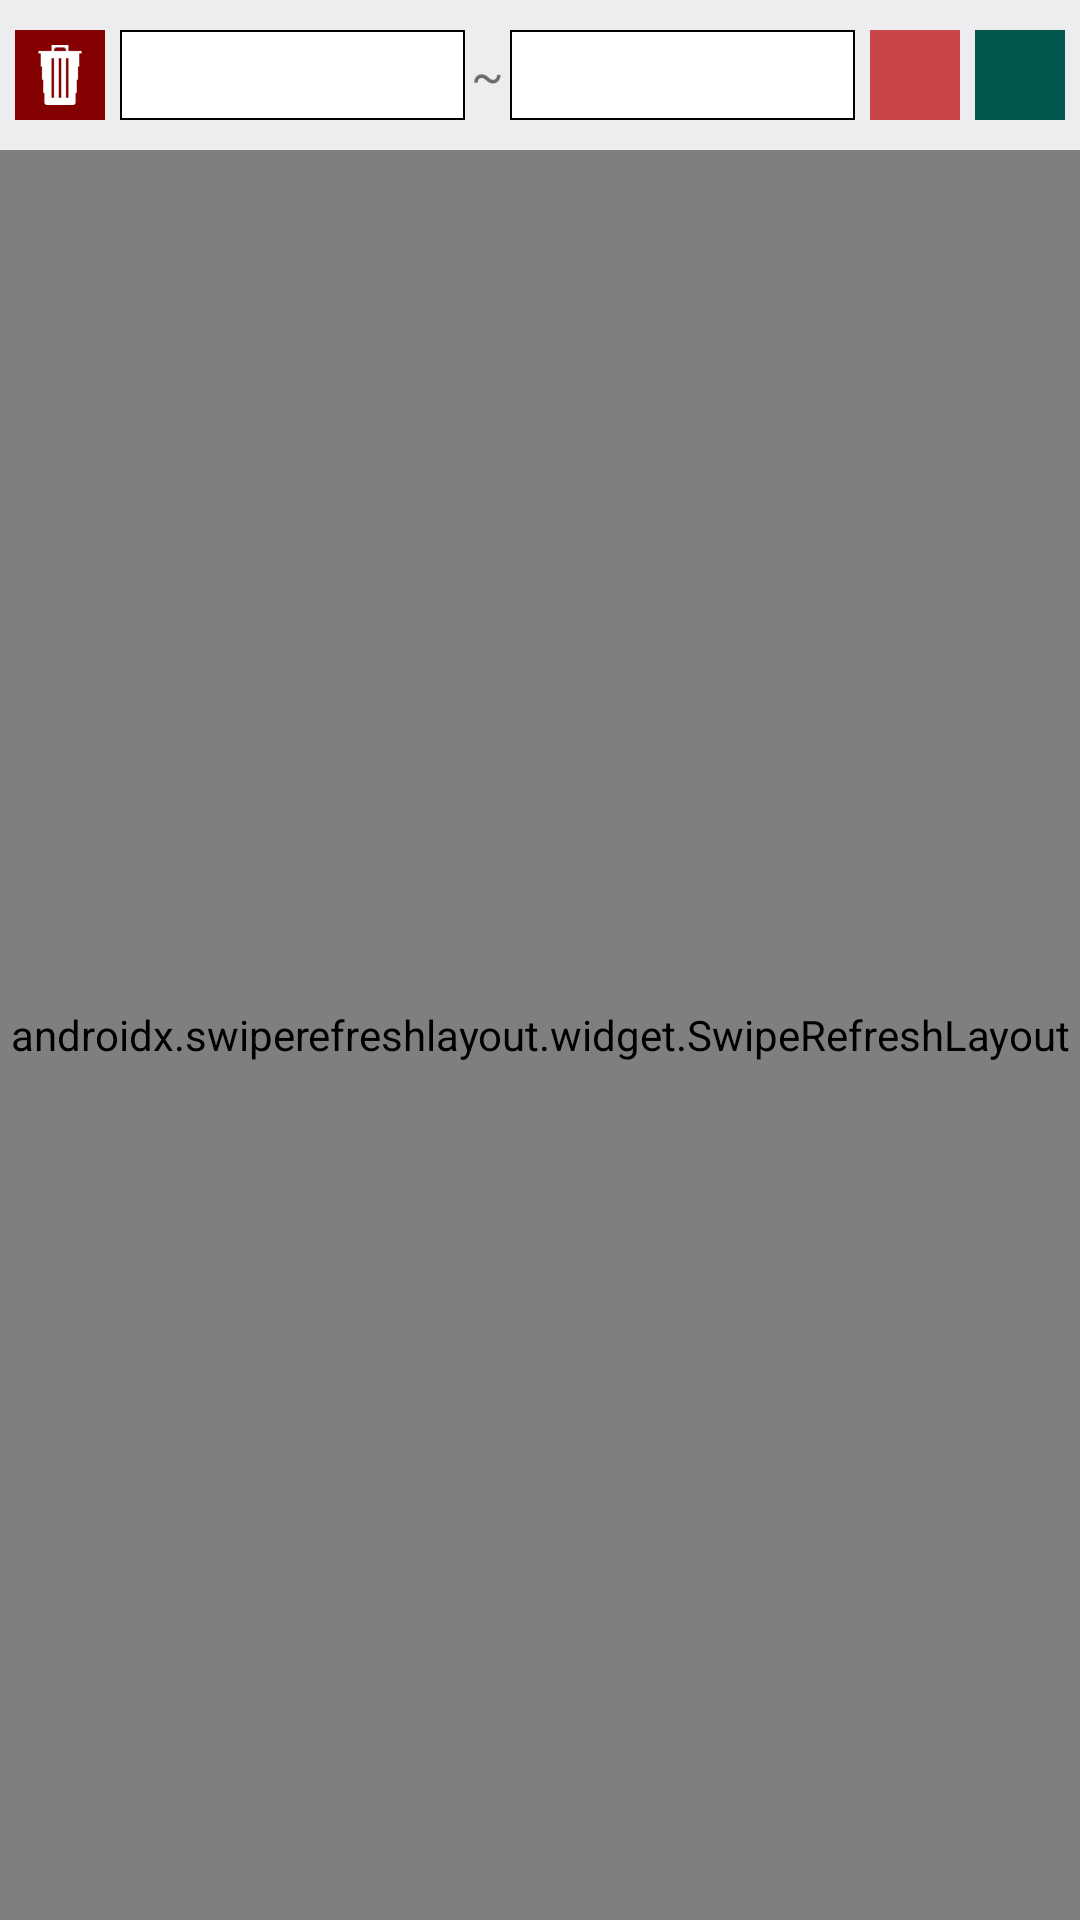

Screen size 1080px×1920px. Icon name, then its center in pixels as [x,y]:
trash: [60,75]
